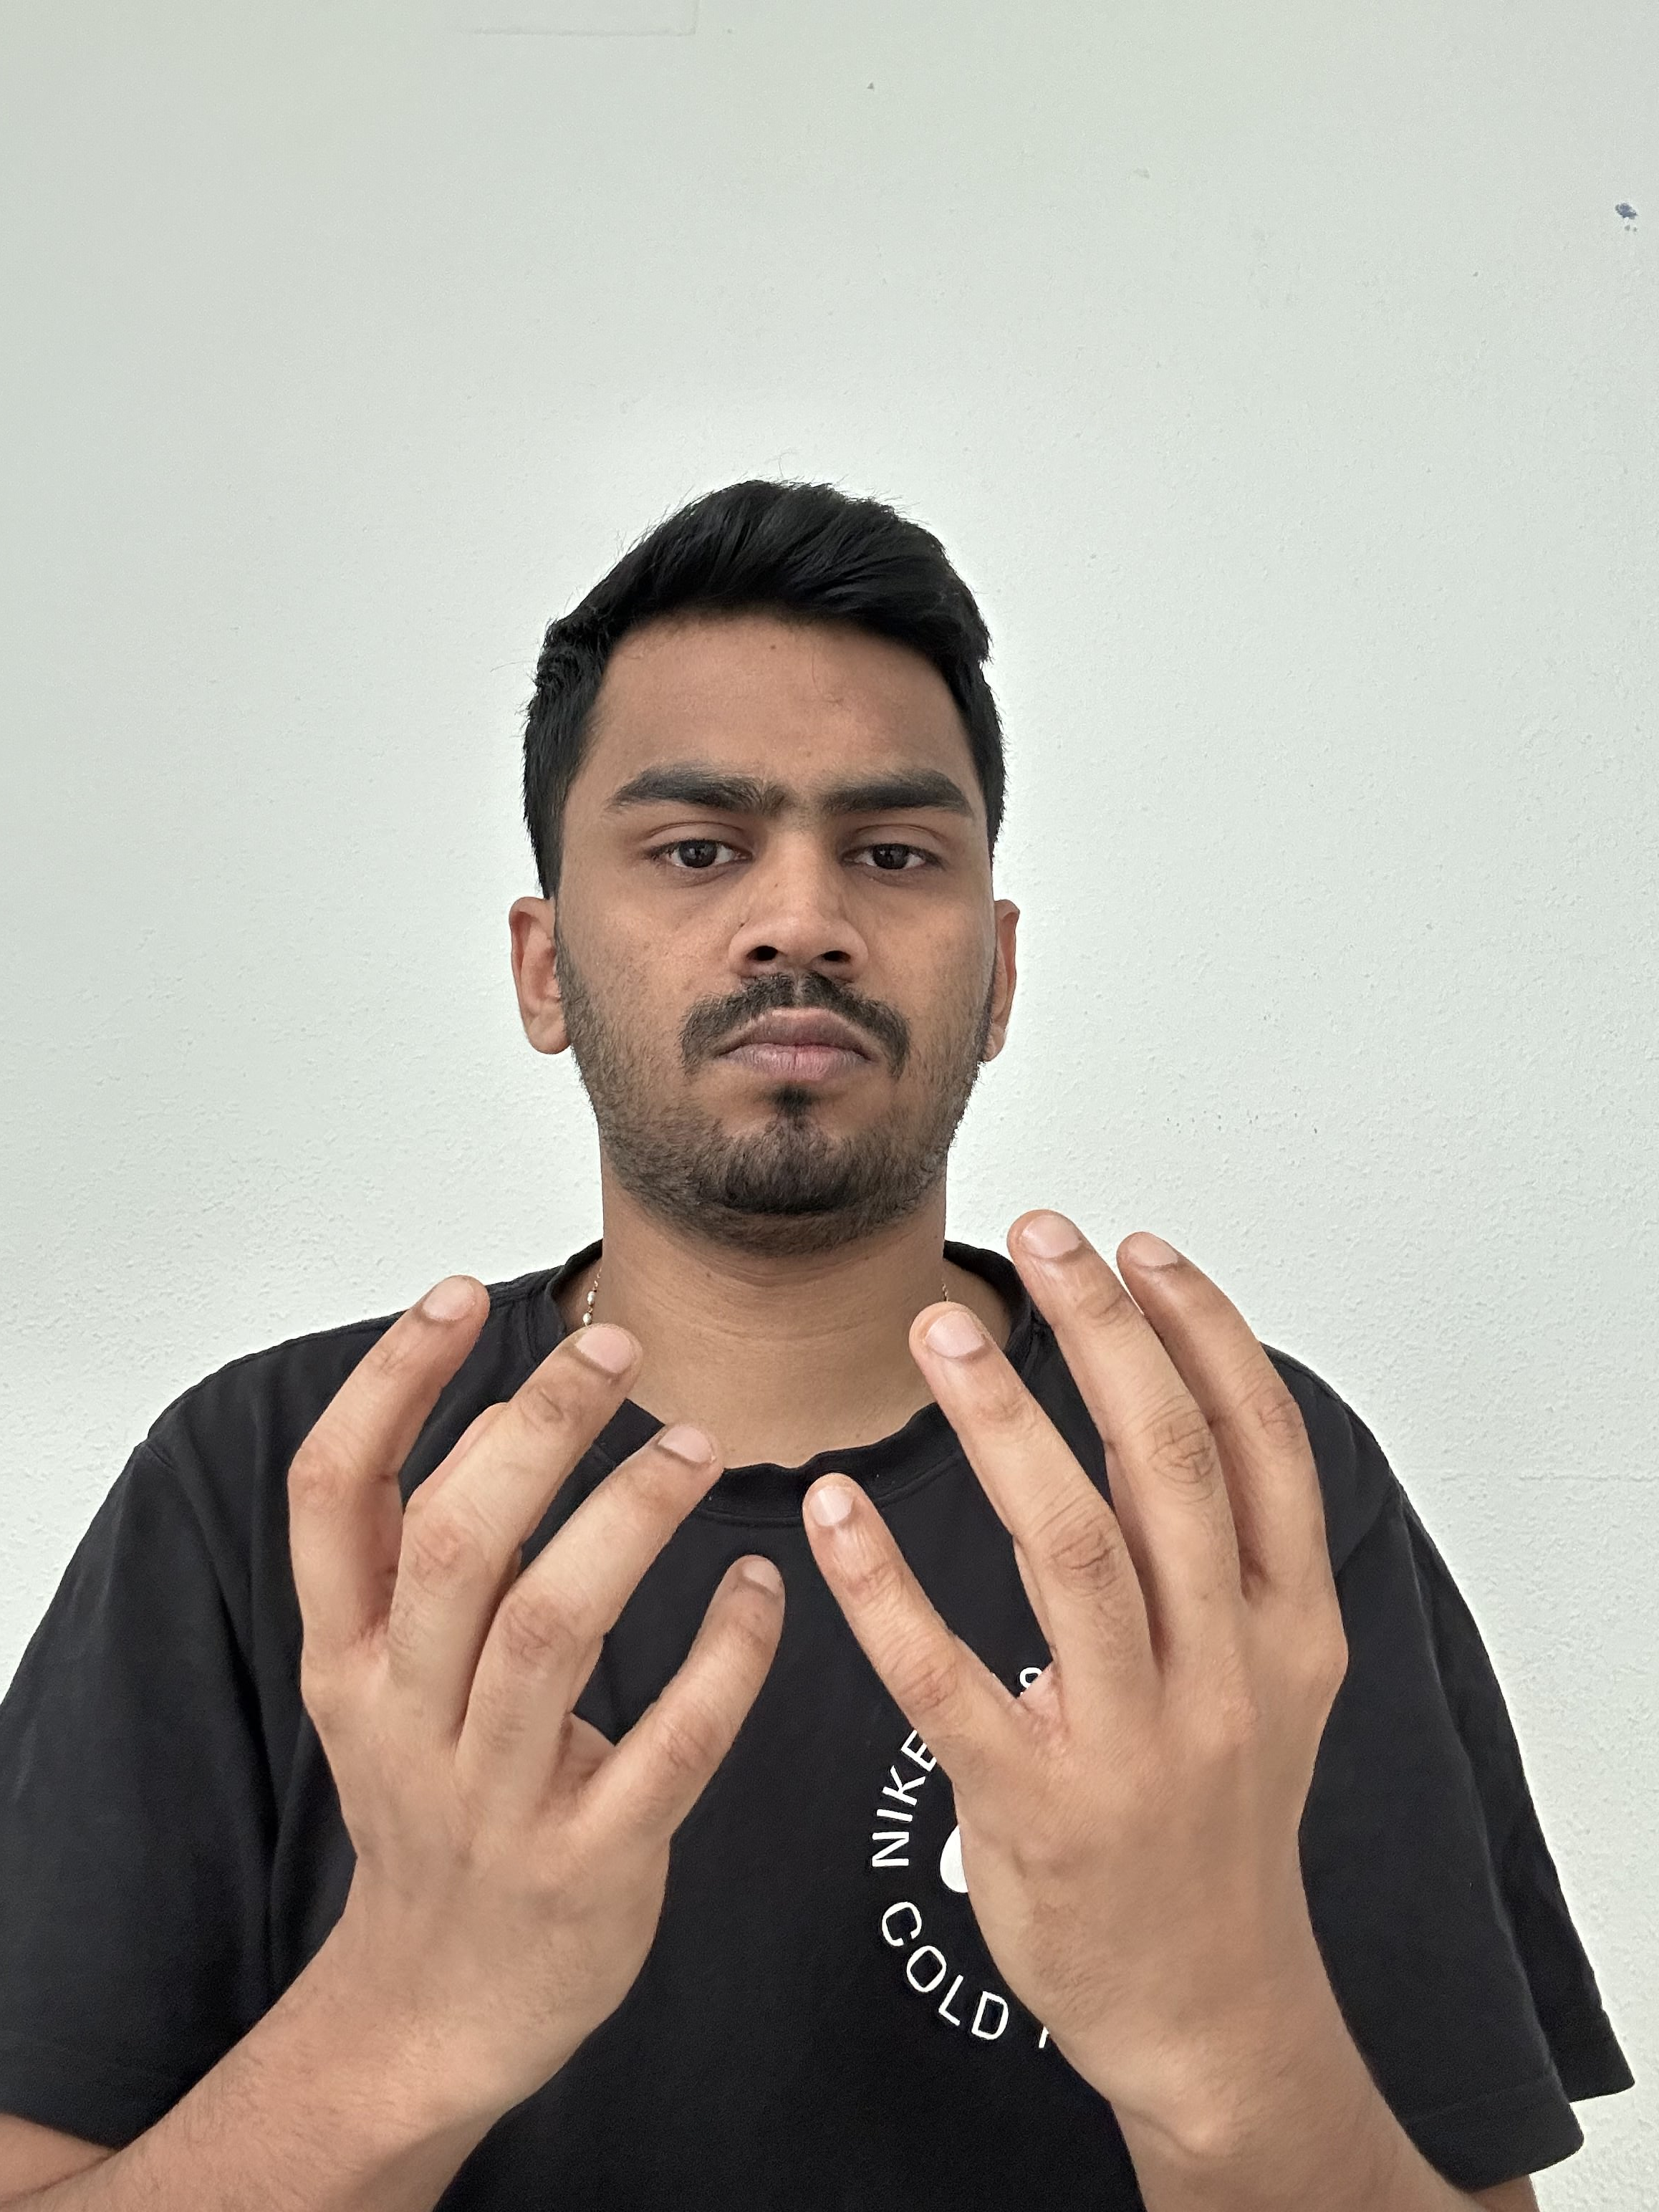group: (3, 474, 1633, 2205)
